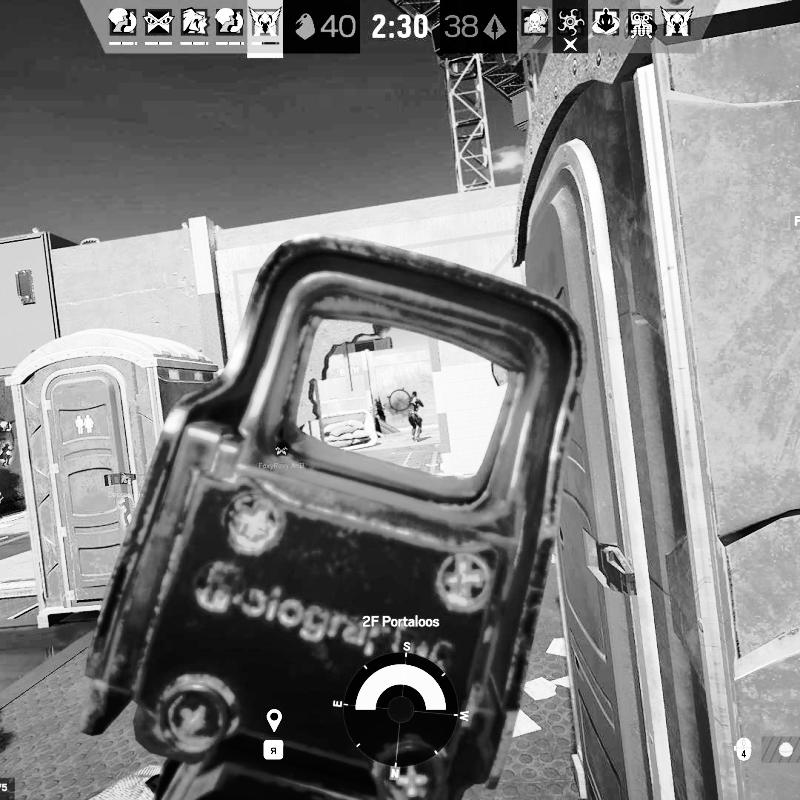Character: (405, 390, 427, 443)
Friend_label: (258, 444, 305, 472), (108, 473, 145, 499), (0, 420, 22, 446)
Head: (411, 391, 418, 399)
